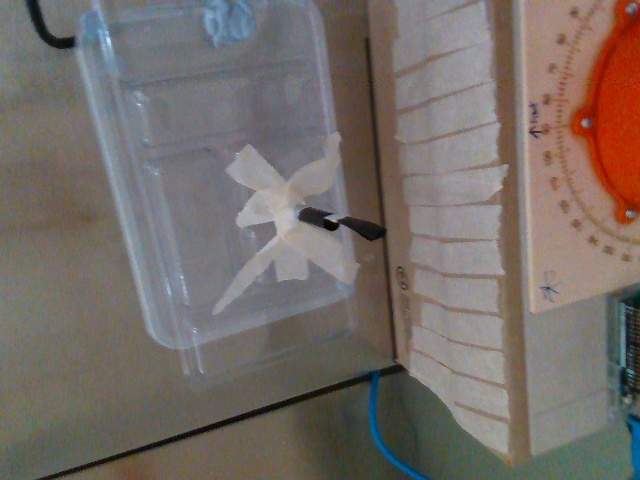test_strip: (326, 213, 385, 242)
